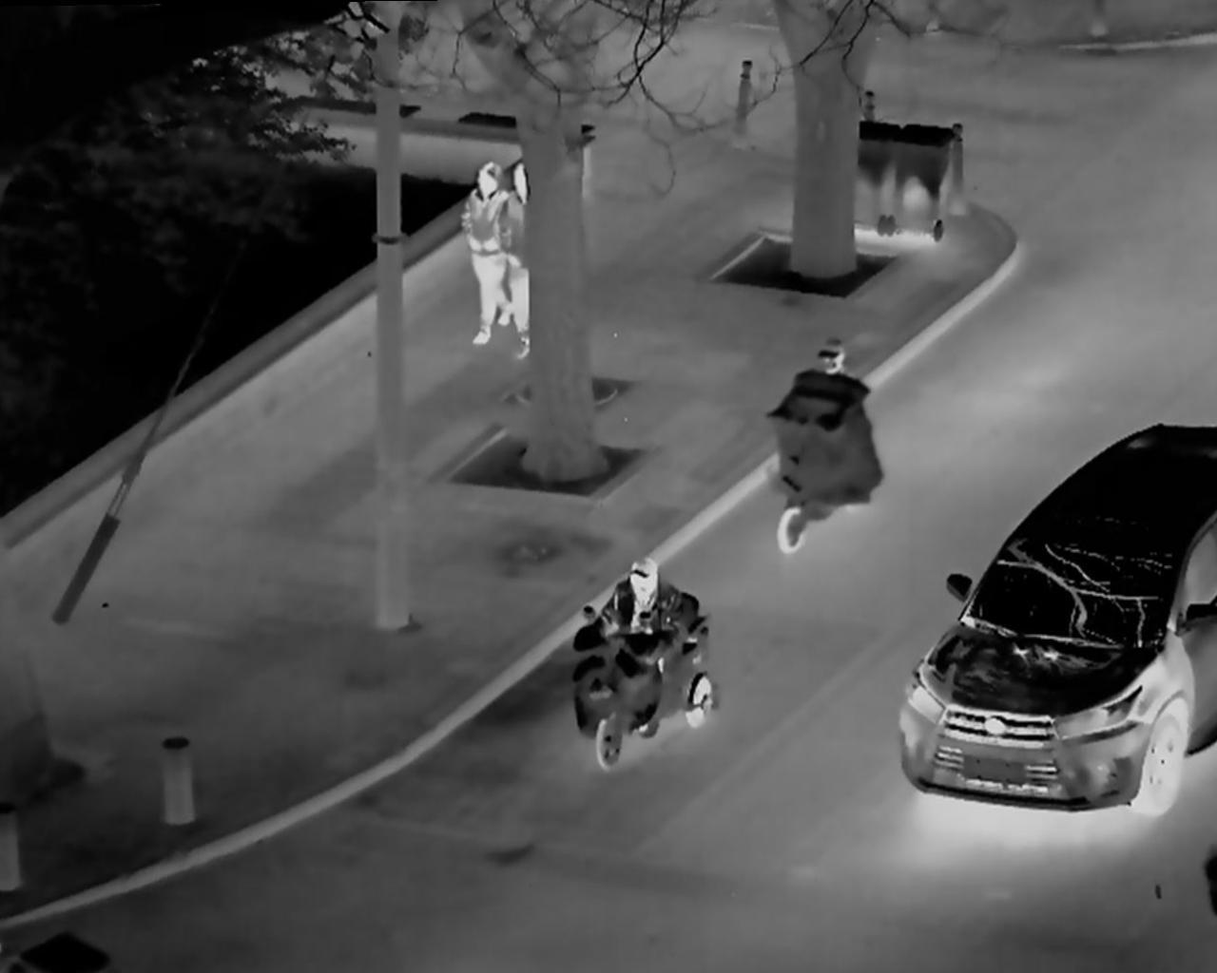person: (760, 321, 876, 556), (573, 554, 707, 743), (456, 154, 513, 353), (498, 151, 538, 349)
